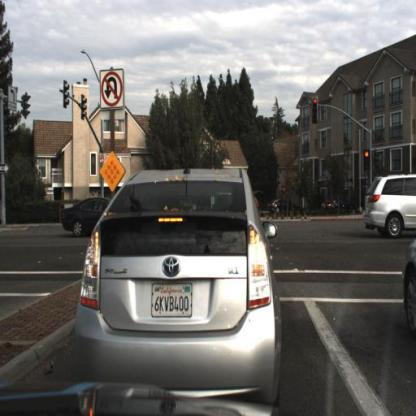car: (68, 156, 283, 398), (52, 178, 126, 245), (363, 173, 416, 242), (397, 217, 416, 350), (61, 196, 112, 238), (266, 196, 301, 225)
trafficLight-Red: (310, 91, 320, 127), (363, 148, 372, 174)
